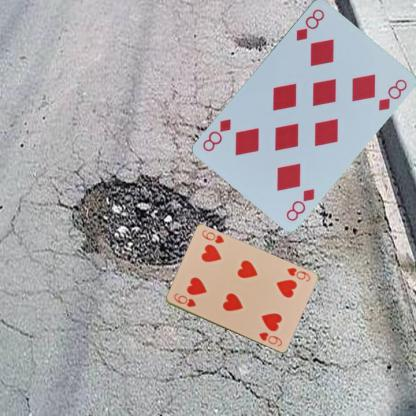6h: (284, 265, 312, 283), (171, 290, 197, 309)
8d: (283, 185, 316, 222), (293, 6, 326, 42)
